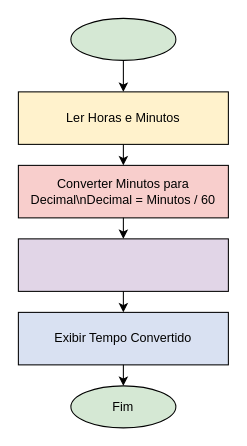
The diagram is 247 pixels wide and 446 high, and some of its shapes have lost their labels. Each missing label, with the centre of its shape:
Início: point 123,38
Somar ao Valor das Horas\nTotal = Horas + Decimal: point 122,264
